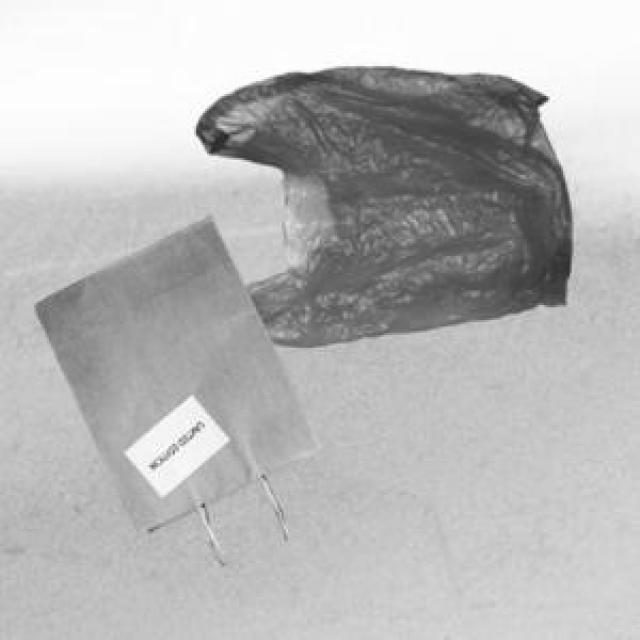paper: (32, 213, 316, 561)
